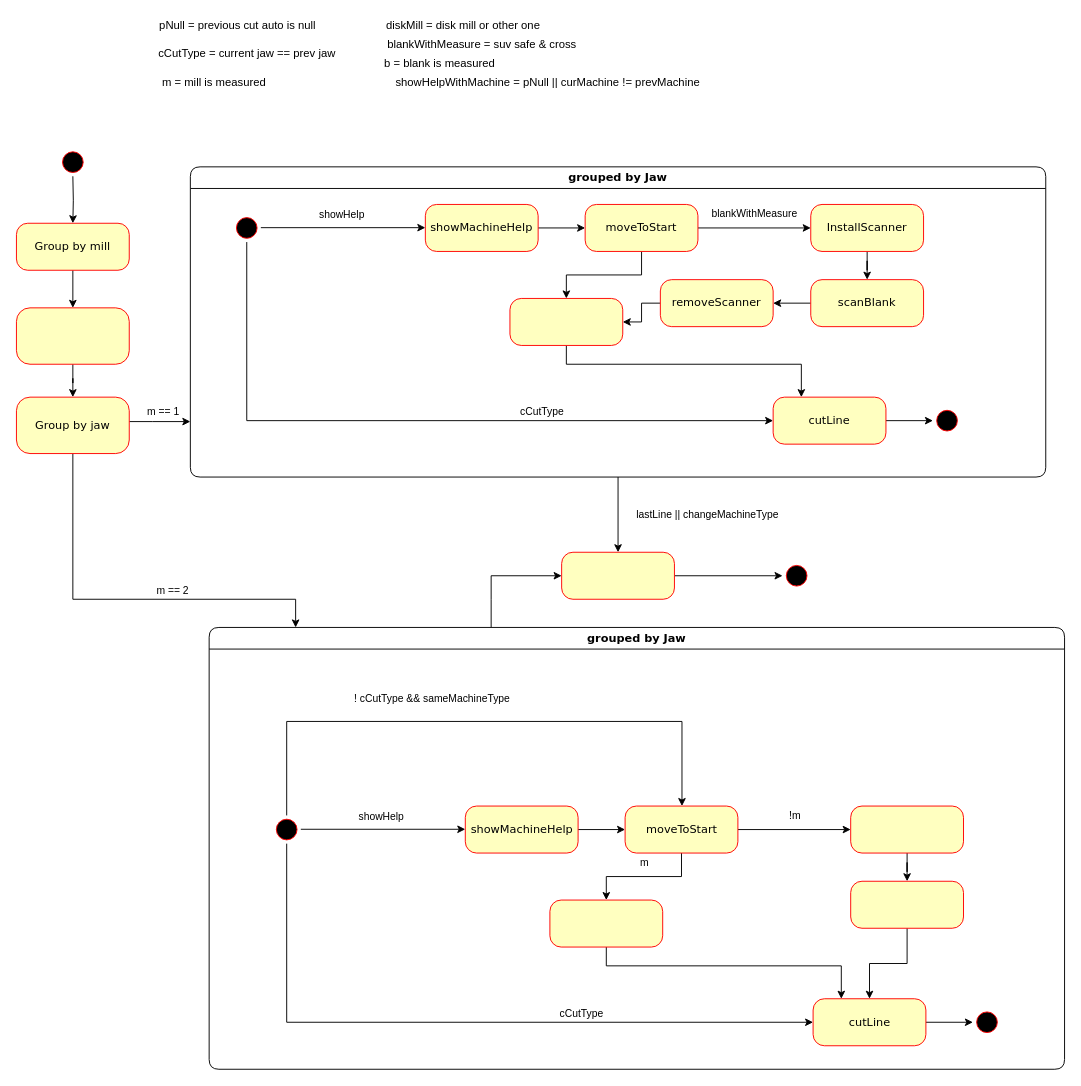
The diagram is 1081 pixels wide and 1086 high, and some of its shapes have lost their labels. Each missing label, with the centre of its shape:
"Group by mount" goes at (x=72, y=335).
"Install Mill and jaws and mount and blank" goes at (x=907, y=829).
"Install mount and jaws and blank" goes at (x=606, y=923).
"InstallMill and blank" goes at (x=566, y=321).
"measure mill" goes at (x=907, y=904).
"moveToFinish" goes at (x=617, y=575).
